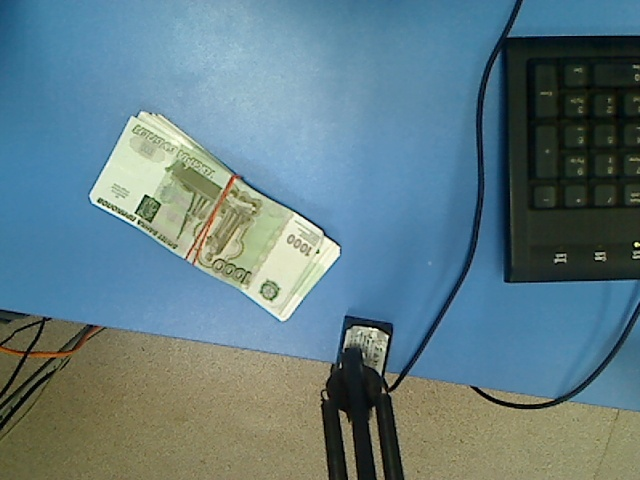banknotes: (85, 109, 343, 324)
